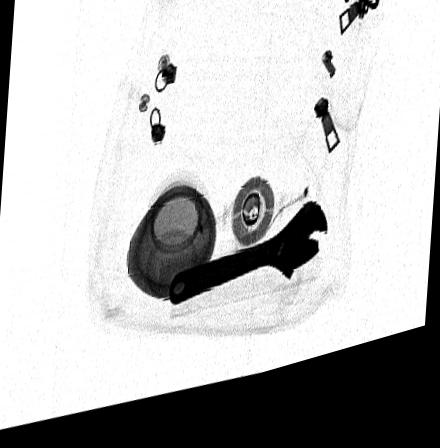Wrench: (167, 218, 327, 316)
